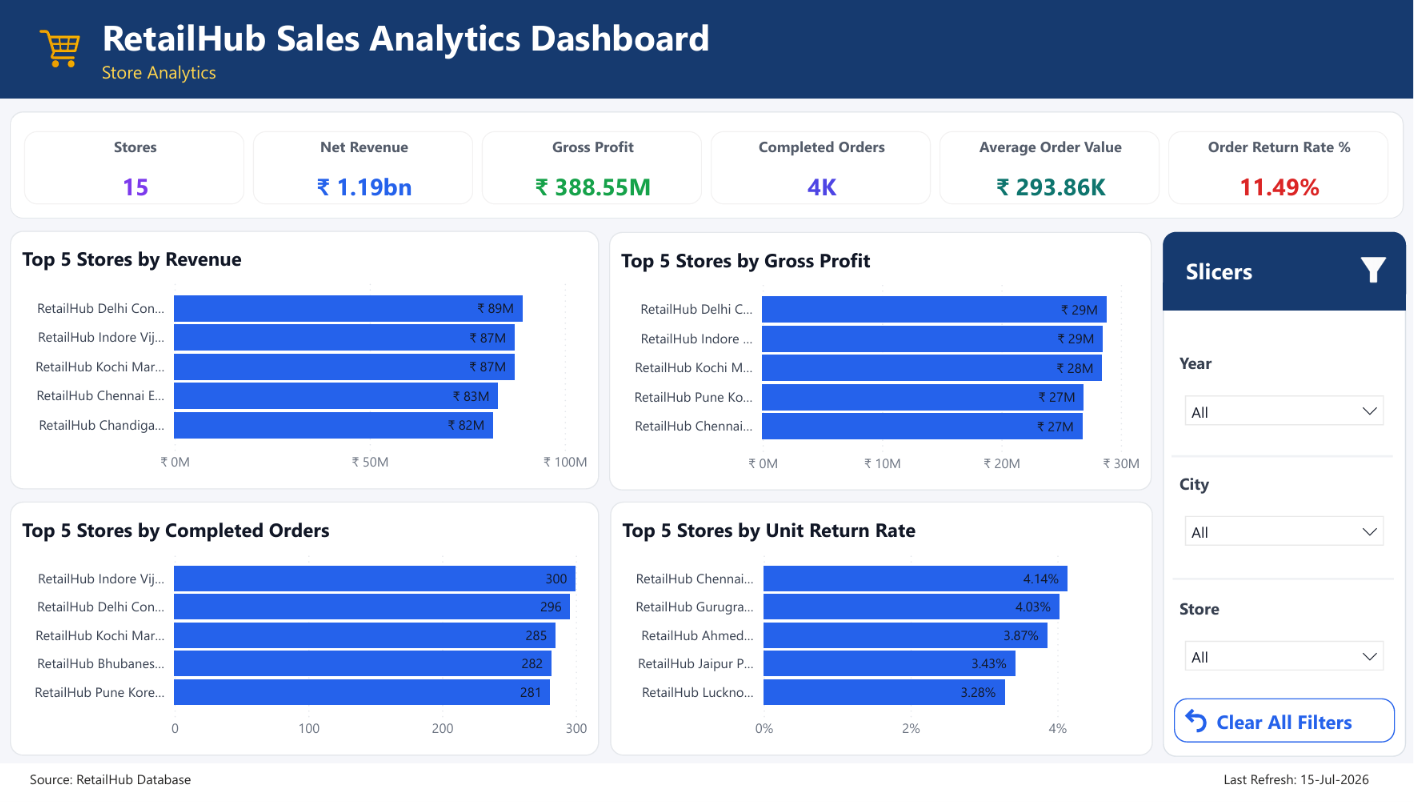

What the dashboard file says about the page in this screenshot:
{"tool":"powerbi","page":{"name":"Store Analytics","canvas":[1280,720],"ordinal":3},"visuals":[{"type":"shape","box":[1053.3,211.1,220,474.4],"z":0},{"type":"textbox","box":[0,0,1280,90],"z":1000},{"type":"image","box":[35,25,41.2,41.2],"z":2000},{"type":"slicer","title":"Year","fields":{"Values":["Date.Year"]},"box":[1063,311.1,200,85.6],"z":3000},{"type":"slicer","title":"City","fields":{"Values":["stores.City"]},"box":[1063,420,200,85.6],"z":4000},{"type":"slicer","title":"Store","fields":{"Values":["stores.Store_Name"]},"box":[1063.3,533.3,200,85.6],"z":5000},{"type":"cardVisual","title":"Net Revenue","fields":{"Data":["📊 Measures.Total Stores","📊 Measures.Net Revenue","📊 Measures.Gross Profit","📊 Measures.Completed Orders","📊 Measures.Store AOV","📊 Measures.Order Return Rate %"]},"box":[10,102,1260.7,96.5],"z":6000},{"type":"actionButton","title":"Clear all Filters","box":[1063.3,633.3,200,40],"z":7000},{"type":"shape","box":[0,692,1280,28],"z":8000},{"type":"textbox","box":[22.7,692,164,28],"z":9000},{"type":"textbox","box":[1103.3,692,154,28],"z":10000},{"type":"shape","box":[1062.2,516.7,200,16.7],"z":11000},{"type":"shape","box":[1061.1,405.6,200,16.7],"z":12000},{"type":"shape","box":[1053.3,257,220,25],"z":13000},{"type":"shape","title":"Slicers","box":[1053.3,211.1,220,67.8],"z":14000},{"type":"image","box":[1228.6,233.6,29.3,23.6],"z":15000},{"type":"clusteredBarChart","title":"Top 5 Stores by Revenue","fields":{"Category":["stores.Store_Name"],"Y":["📊 Measures.Net Revenue"]},"box":[9.7,209.9,533.2,234],"z":16000},{"type":"clusteredBarChart","title":"Top 5 Stores by Gross Profit","fields":{"Category":["stores.Store_Name"],"Y":["📊 Measures.Gross Profit"]},"box":[552,211.1,491,234],"z":17000},{"type":"clusteredBarChart","title":"Top 5 Stores by Unit Return Rate","fields":{"Category":["stores.Store_Name"],"Y":["📊 Measures.Unit Return Rate %"]},"box":[552.5,454.8,491,230.4],"z":18000},{"type":"clusteredBarChart","title":"Top 5 Stores by Completed Orders","fields":{"Category":["stores.Store_Name"],"Y":["📊 Measures.Completed Orders"]},"box":[9.7,454.8,533.2,230.4],"z":19000}]}

Visuals, with their boxes in screenshot pixels (x1, y1, x2, y2), scaled from the page's 1280x720 canvas onto the 1414x802 screenshot:
shape: locate(1164, 235, 1407, 764)
textbox: locate(0, 0, 1413, 100)
image: locate(39, 28, 84, 74)
"Year" slicer: locate(1174, 347, 1395, 442)
"City" slicer: locate(1174, 468, 1395, 563)
"Store" slicer: locate(1175, 594, 1396, 689)
"Net Revenue" cardVisual: locate(11, 114, 1404, 221)
"Clear all Filters" actionButton: locate(1175, 705, 1396, 750)
shape: locate(0, 771, 1413, 801)
textbox: locate(25, 771, 206, 801)
textbox: locate(1219, 771, 1389, 801)
shape: locate(1173, 576, 1394, 594)
shape: locate(1172, 452, 1393, 470)
shape: locate(1164, 286, 1407, 314)
"Slicers" shape: locate(1164, 235, 1407, 311)
image: locate(1357, 260, 1390, 286)
"Top 5 Stores by Revenue" clusteredBarChart: locate(11, 234, 600, 494)
"Top 5 Stores by Gross Profit" clusteredBarChart: locate(610, 235, 1152, 496)
"Top 5 Stores by Unit Return Rate" clusteredBarChart: locate(610, 507, 1153, 763)
"Top 5 Stores by Completed Orders" clusteredBarChart: locate(11, 507, 600, 763)
